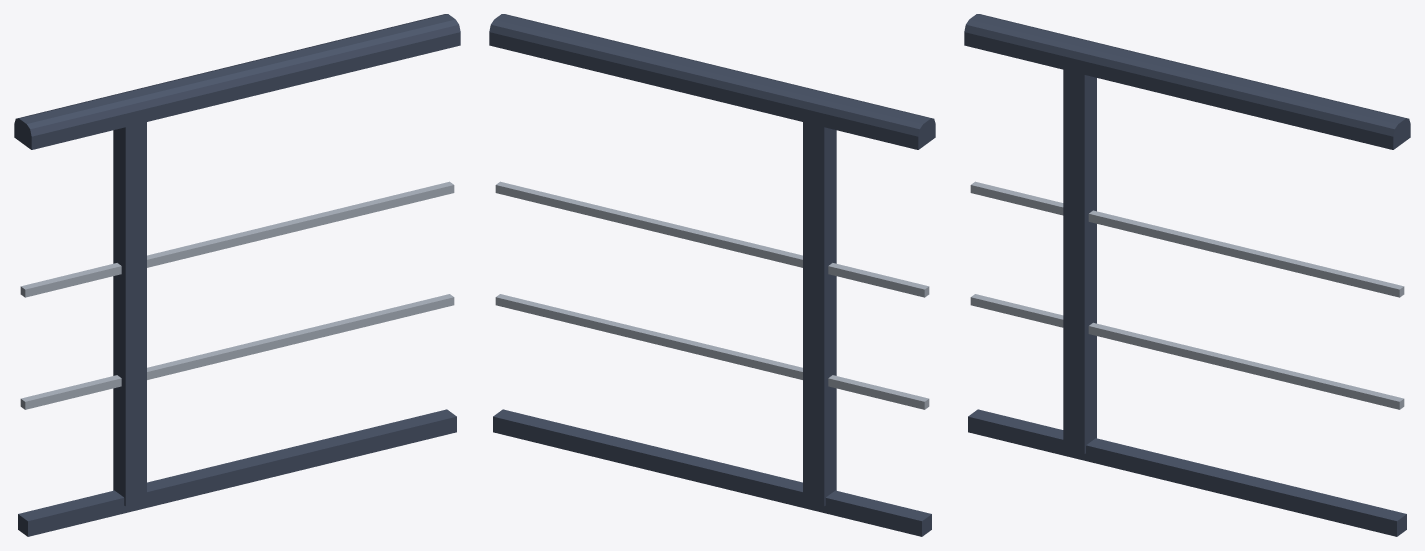
File: gelaender.glb
The picture shows the model from 3 angles, left to right: view 1: azimuth 30°, elevation 25°; view 2: azimuth 150°, elevation 25°; view 3: azimuth 330°, elevation 25°; orthographic projection.
Visible parts, largest first — view 1: gelaender; view 2: gelaender; view 3: gelaender.
Part boxes in pixels (bbox=[...]): gelaender: bbox=[14, 14, 460, 536]; gelaender: bbox=[489, 14, 935, 536]; gelaender: bbox=[964, 14, 1410, 536].
Size of the model in its own units: 1 by 0.9175 by 0.07.
